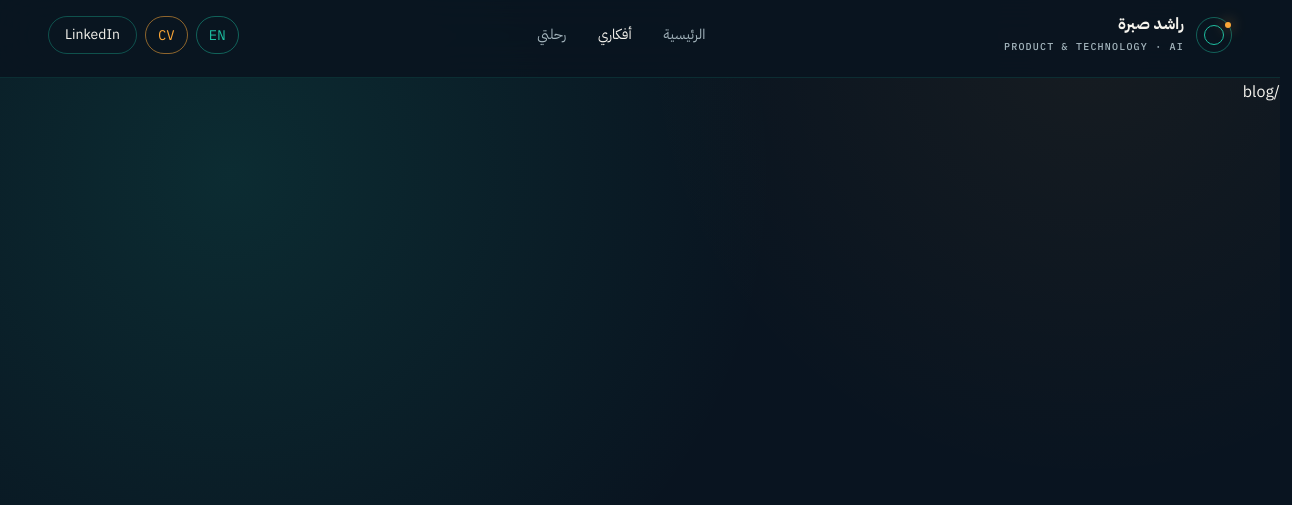
Test: CV navigation › opens the dossier from the global header with return state
The image size is (1292, 505).
What coordinates should you click on to do the following:
click the link "CV"
I would click on:
 (166, 35)
Its box is [145,16,188,54].
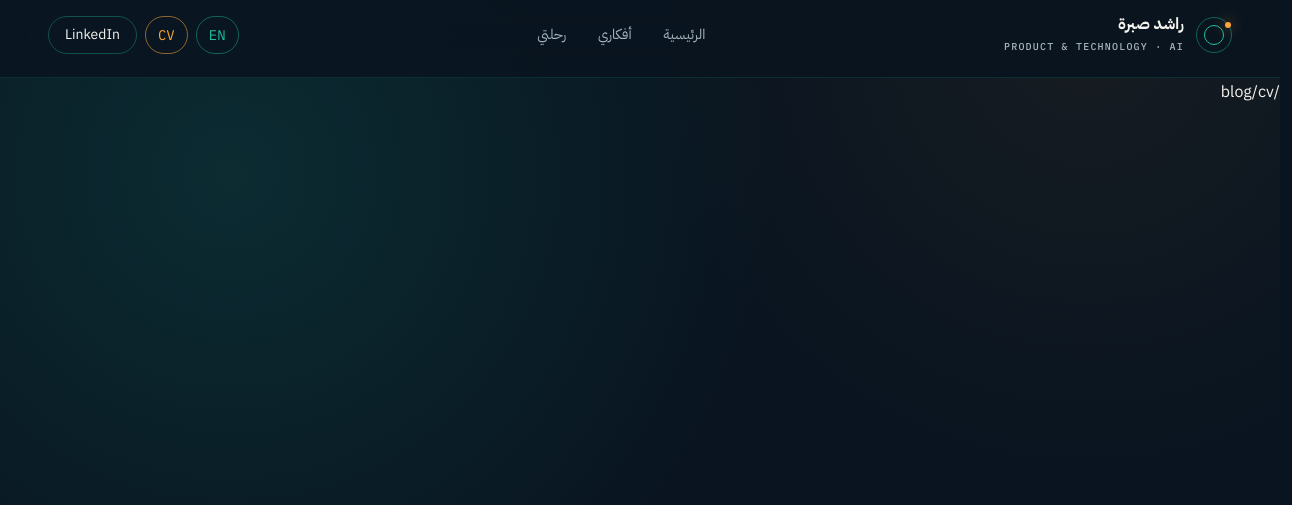
expect the text with test id "from" reads "/blog": met, box [1221,80,1258,104]
expect the text with test id "pathname" reads "/cv": met, box [1258,80,1280,104]
